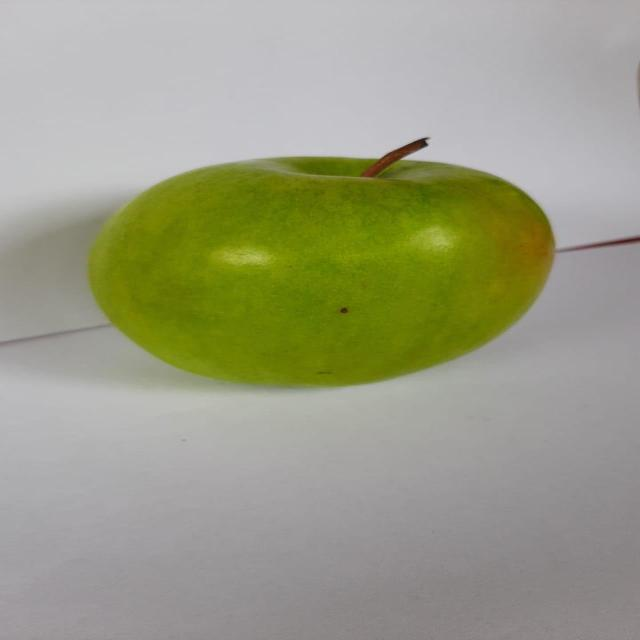Rotten Apple: (55, 131, 567, 397)
